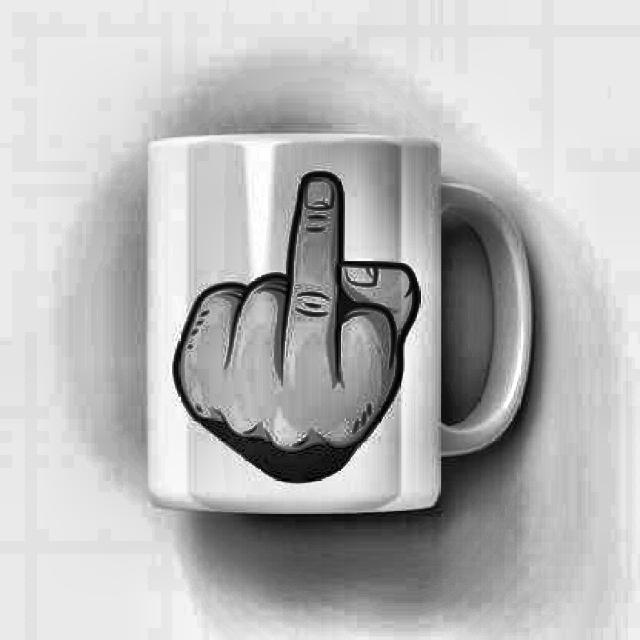Mug: (142, 132, 533, 517)
